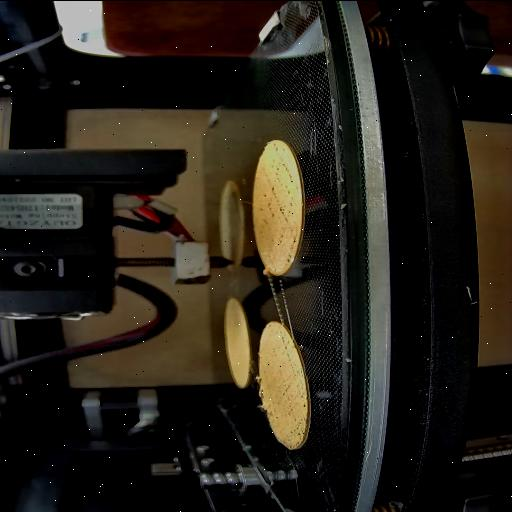under_extrusion: (261, 158, 296, 220), (273, 379, 307, 435), (275, 328, 295, 364), (276, 231, 298, 263)
